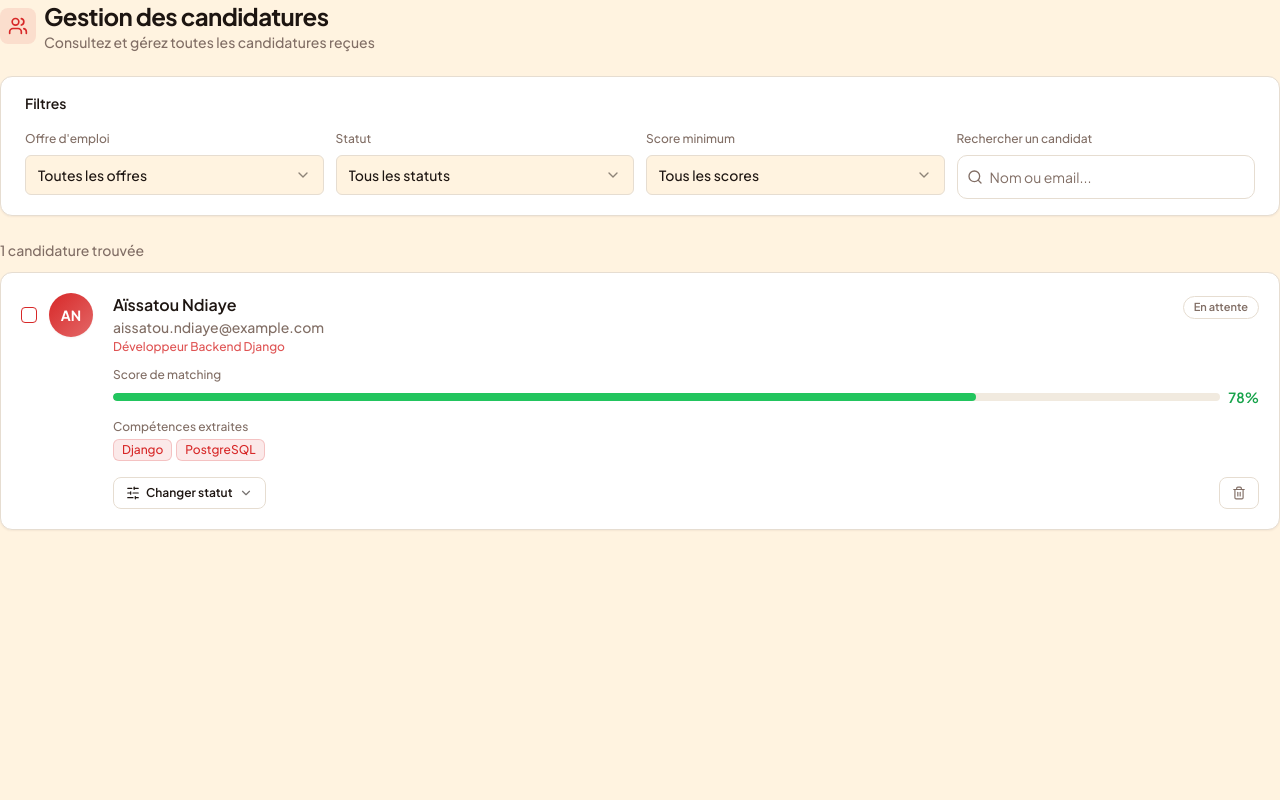
Test: ApplicationsManagementPage — suppression d'une candidature (RH/Admin) › annule la suppression sans appeler le service
Expected: the text "Aïssatou Ndiaye" is shown, [113,294,236,315]
Click the button named "supprimer la candidature": (1239, 493) [1219,477,1259,509]
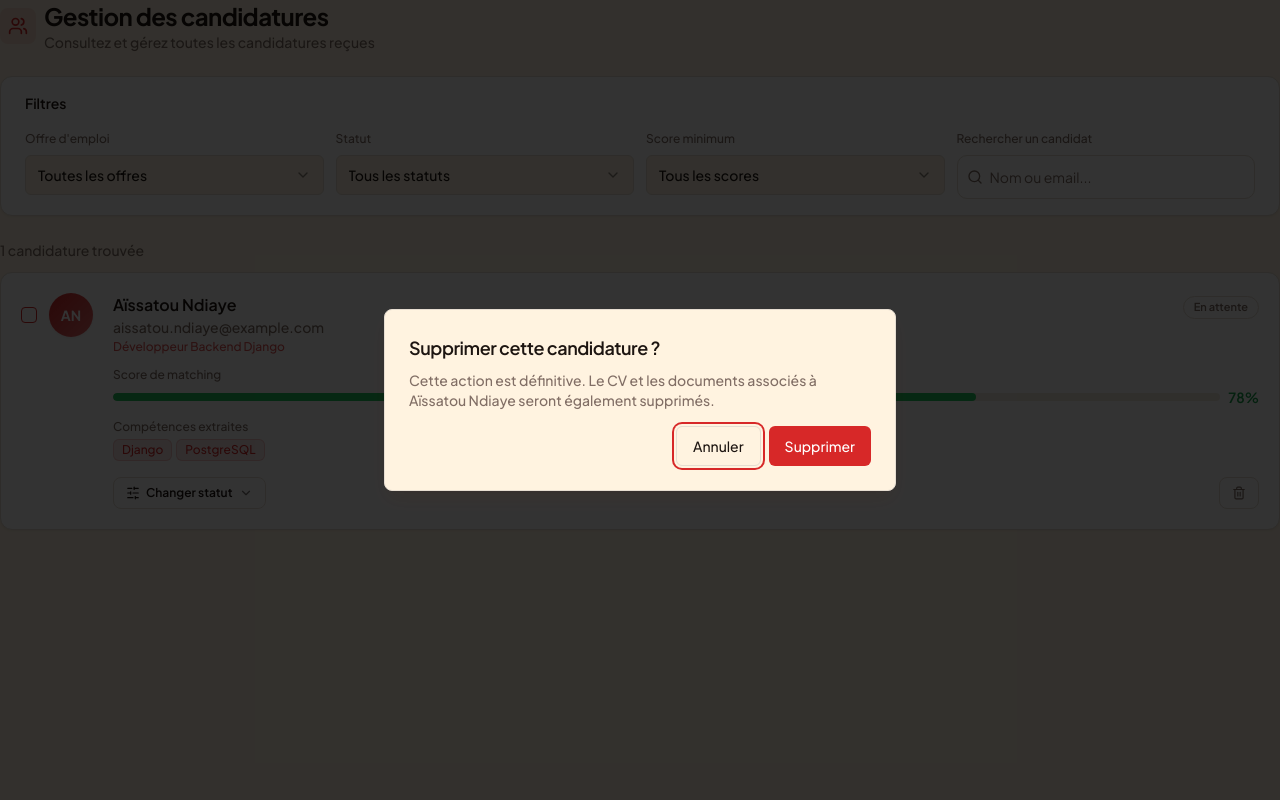
Expected: the heading "Supprimer cette candidature ?" is shown, [409,336,660,359]
Click the button "Annuler": (718, 446) [676,426,761,466]
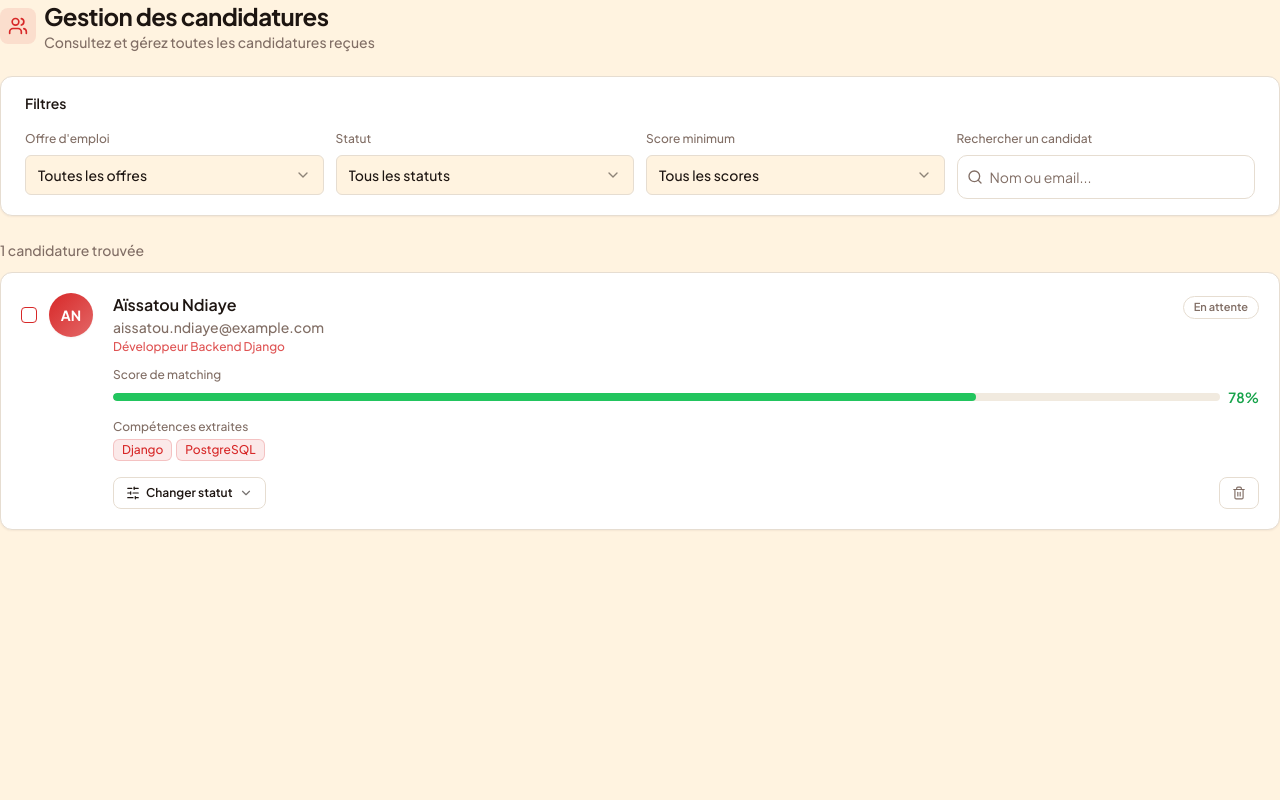
Expected: the heading "Supprimer cette candidature ?" is gone
